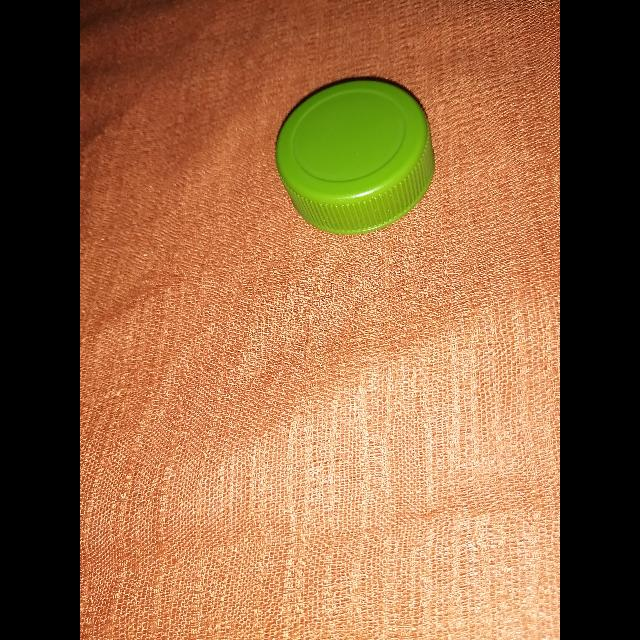plastic_bottle_cap: (276, 78, 434, 234)
